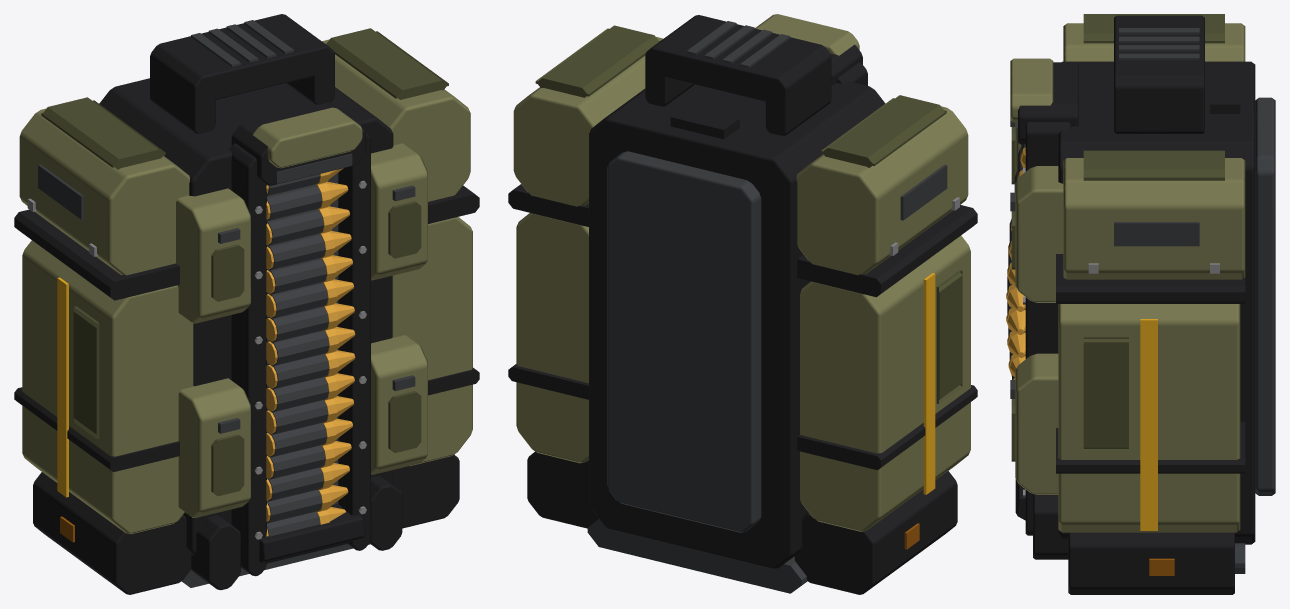
Rendered from backpack_belt.glb.
The picture shows the model from 3 angles, left to right: view 1: azimuth 30°, elevation 25°; view 2: azimuth 150°, elevation 25°; view 3: azimuth 270°, elevation 25°; orthographic projection.
Parts seen in each view (by area): view 1: SideBoxLowL, Frame, SideBoxUpL, SideBoxLowR, RailL, RailR, FootL, SideBoxUpR, HandleBar, ArmorL1, ArmorL0, ArmorR1 (+39 smaller); view 2: MountPlate, Frame, SideBoxLowL, SideBoxUpL, SideBoxLowR, SideBoxUpR, FootL, HandleBar, BaseSkid, StrapMidL, SideCapL, SideCapR (+12 smaller); view 3: SideBoxLowR, SideBoxUpR, Frame, FootR, MountPlate, ArmorR0, ArmorR1, SidePanelR, HandleBar, StrapMidR, SideCapR, HandlePostR (+16 smaller).
Part boxes in pixels (left/top/right/bottom): SideBoxLowL: left=22, top=240, right=193, bottom=534; Frame: left=99, top=78, right=393, bottom=555; SideBoxUpL: left=19, top=108, right=189, bottom=275; SideBoxLowR: left=392, top=217, right=472, bottom=465; RailL: left=229, top=143, right=266, bottom=576; RailR: left=338, top=133, right=370, bottom=550; FootL: left=33, top=472, right=191, bottom=594; SideBoxUpR: left=322, top=39, right=470, bottom=201; HandleBar: left=150, top=14, right=334, bottom=100; ArmorL1: left=178, top=378, right=250, bottom=517; ArmorL0: left=176, top=188, right=250, bottom=323; ArmorR1: left=371, top=335, right=427, bottom=474; MountPlate: left=607, top=151, right=761, bottom=532; Frame: left=589, top=81, right=885, bottom=569; SideBoxLowL: left=800, top=235, right=970, bottom=531; SideBoxUpL: left=796, top=106, right=968, bottom=275; SideBoxLowR: left=516, top=213, right=588, bottom=463; SideBoxUpR: left=513, top=37, right=663, bottom=206; FootL: left=794, top=471, right=957, bottom=594; HandleBar: left=645, top=15, right=831, bottom=102; BaseSkid: left=587, top=519, right=807, bottom=593; StrapMidL: left=797, top=205, right=977, bottom=297; SideCapL: left=821, top=95, right=946, bottom=167; SideCapR: left=535, top=25, right=659, bottom=97; SideBoxLowR: left=1058, top=304, right=1240, bottom=532; SideBoxUpR: left=1063, top=158, right=1245, bottom=279; Frame: left=1058, top=61, right=1255, bottom=544; FootR: left=1068, top=532, right=1234, bottom=594; MountPlate: left=1255, top=97, right=1275, bottom=495; ArmorR0: left=1015, top=166, right=1063, bottom=302; ArmorR1: left=1015, top=353, right=1058, bottom=494; SidePanelR: left=1083, top=336, right=1128, bottom=451; HandleBar: left=1114, top=15, right=1204, bottom=96; StrapMidR: left=1056, top=254, right=1245, bottom=303; SideCapR: left=1083, top=150, right=1224, bottom=180; HandlePostR: left=1114, top=88, right=1204, bottom=133.
Size of the model in its own units: 1.68 by 2.12 by 1.07.
